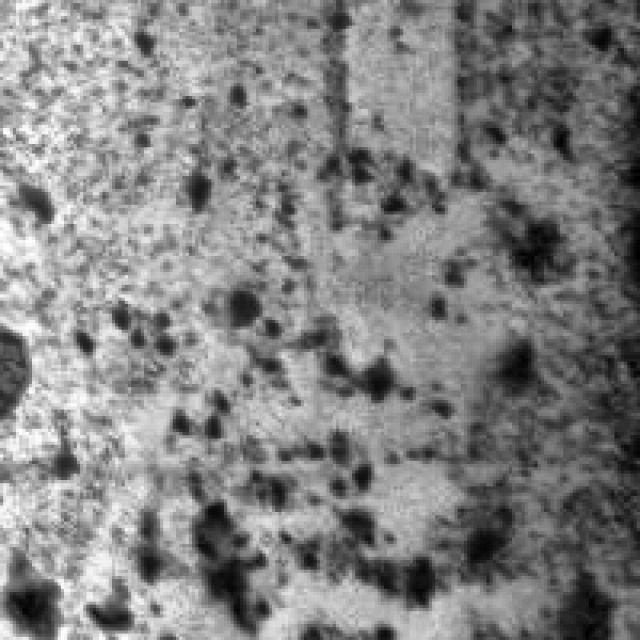Rolled_in_Scale: (48, 268, 458, 618), (156, 7, 564, 324)
